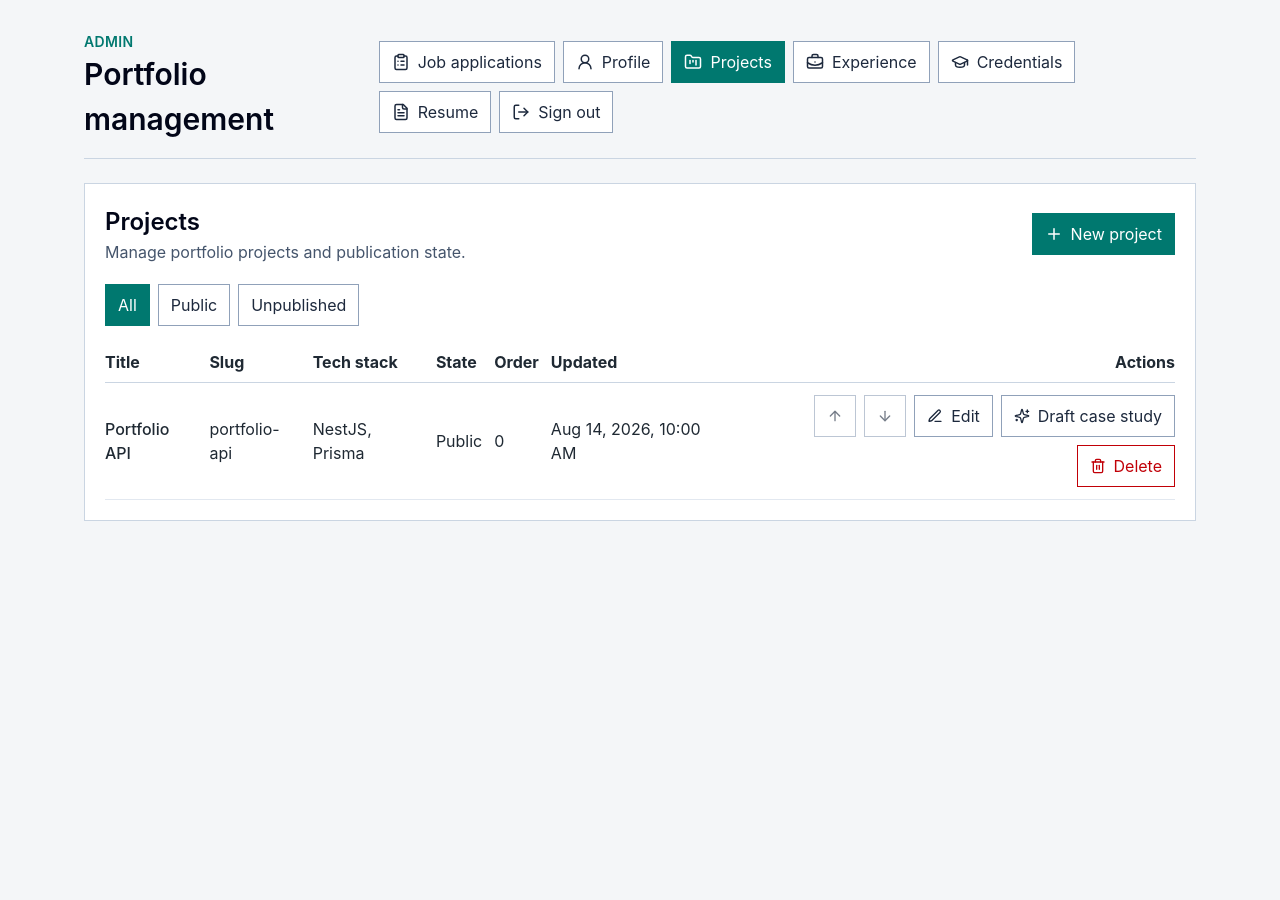
projects admin list › keeps the project visible and displays API error when deletion fails
Click the button with aria-label "Delete Portfolio API" at point(1126, 466), box [1076,445,1175,487]
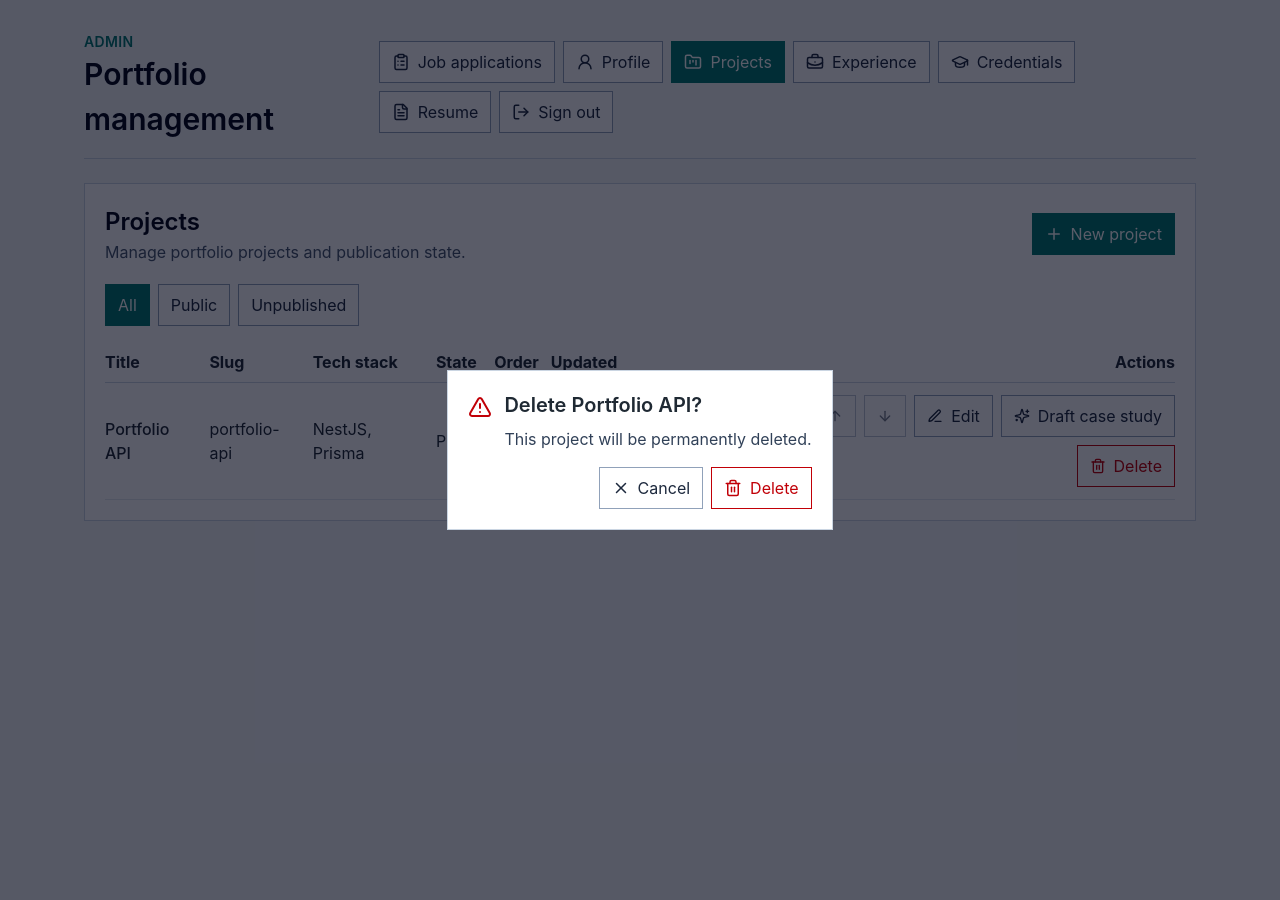
Click the button "Delete" at point(761, 488), box [711,467,812,509]
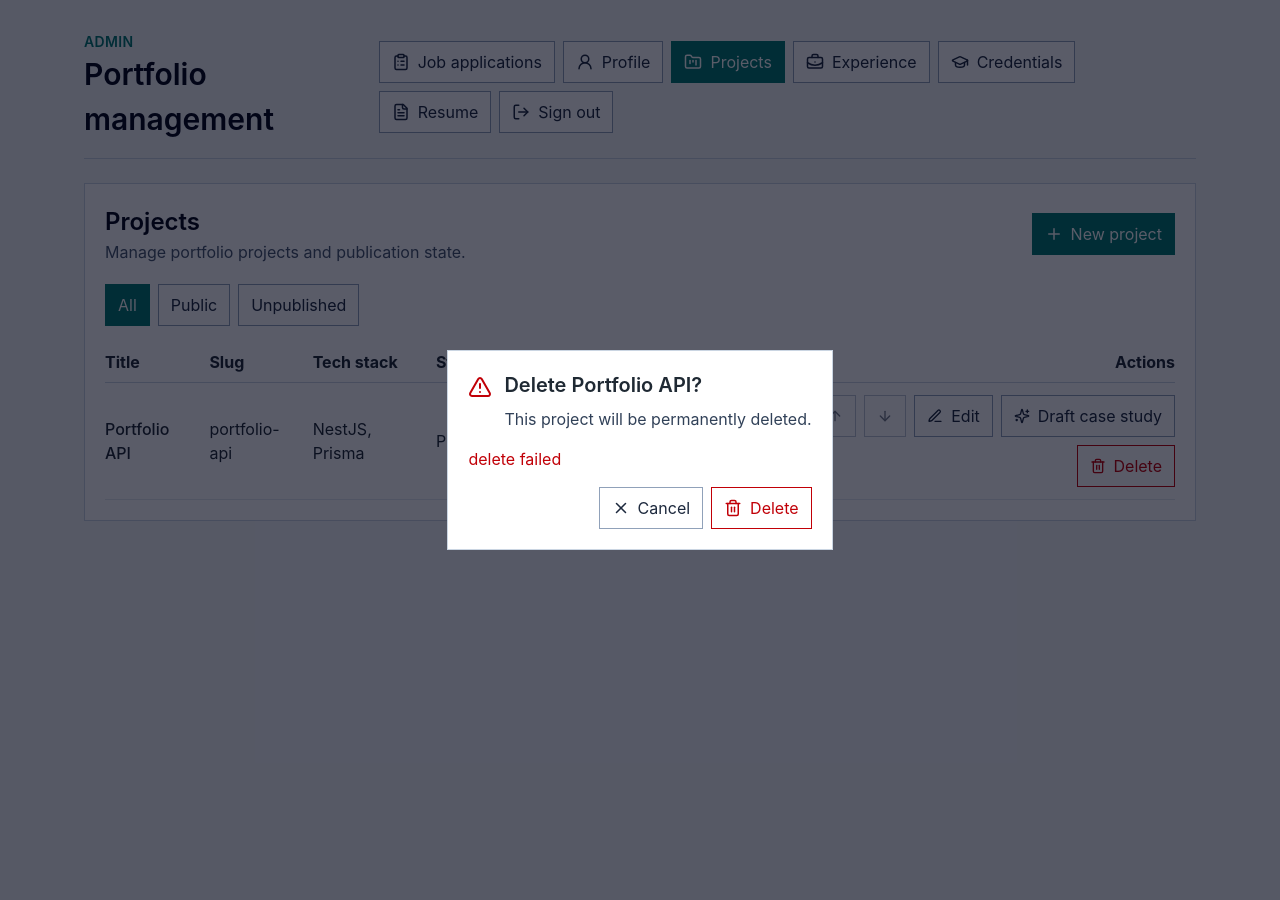
Expected: the text "Portfolio API" is shown, [105,382,209,500]
Now the message reads "delete failed", box [468,449,561,469]
